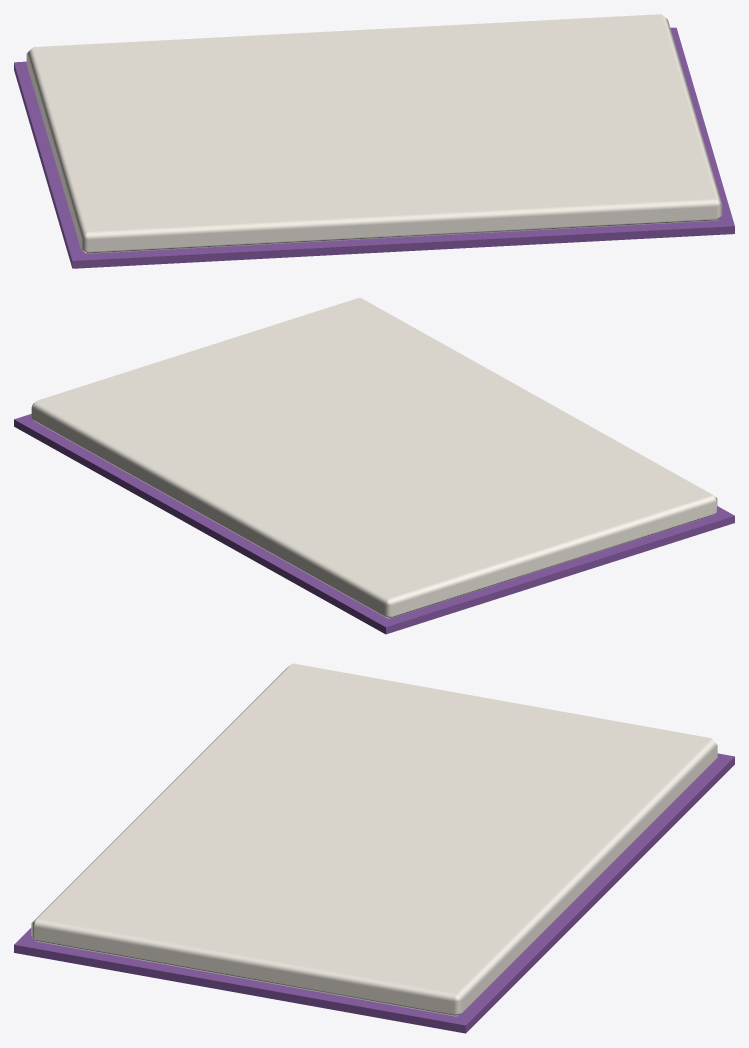
Rendered from open_book.fbx.
3 renders of one model, top to bottom at view 1: azimuth 30°, elevation 25°; view 2: azimuth 150°, elevation 25°; view 3: azimuth 270°, elevation 25°, orthographic. The views are drawn at different scales.
Parts seen in each view (by area): view 1: open_book; view 2: open_book; view 3: open_book.
Part boxes in pixels (x1,y1,x2,y2): open_book: [14, 14, 734, 268]; open_book: [14, 297, 734, 634]; open_book: [14, 663, 734, 1033].
Size of the model in its own units: 0.3712 by 0.015 by 0.3234.
